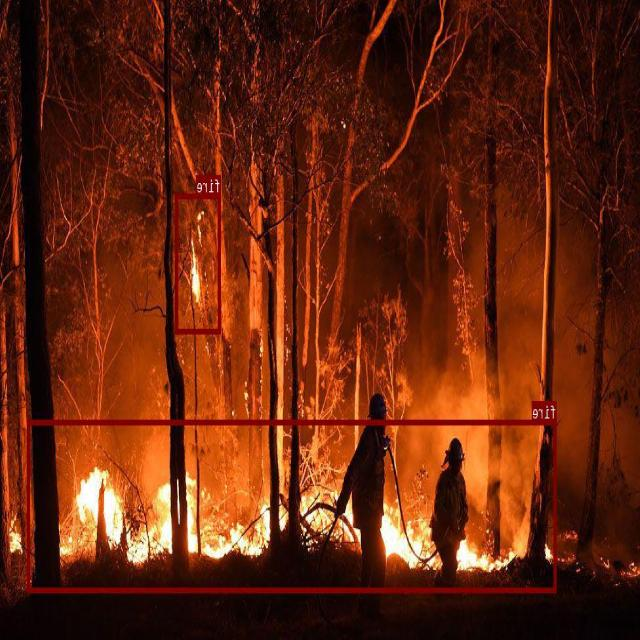fire: (28, 419, 557, 592), (176, 193, 222, 332)
